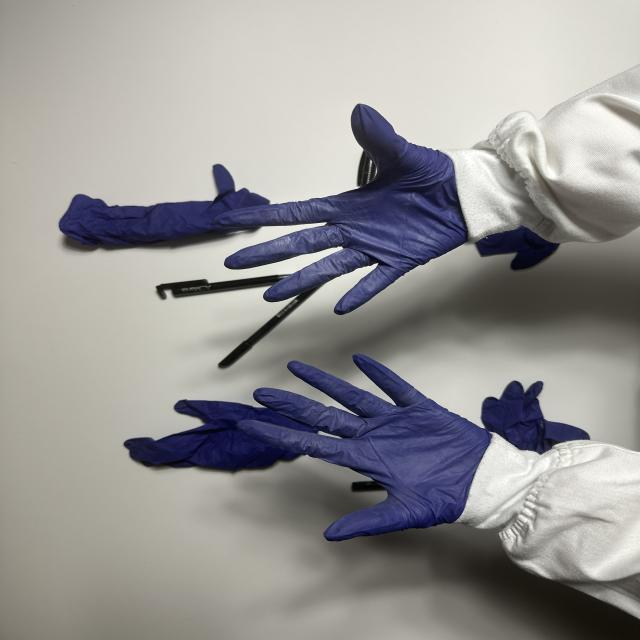gloves_contaminated: (216, 104, 467, 314), (238, 354, 492, 542)
